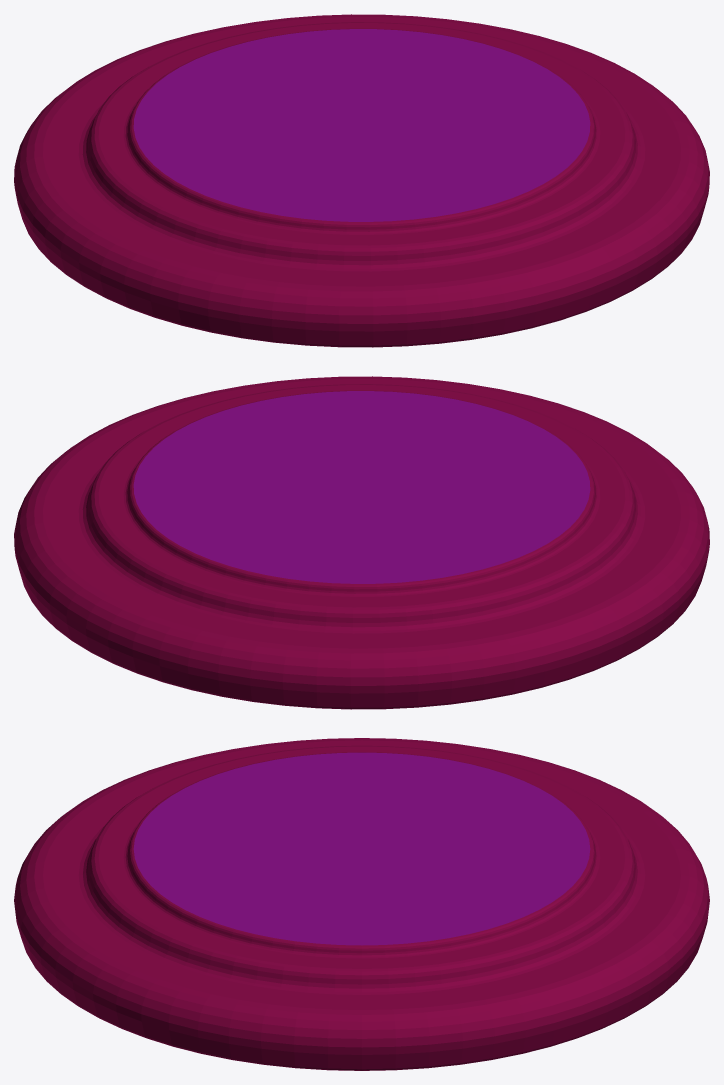
Rendered from frisbee.fbx.
3 renders of one model, top to bottom at view 1: azimuth 30°, elevation 25°; view 2: azimuth 150°, elevation 25°; view 3: azimuth 270°, elevation 25°, orthographic.
Visible parts, largest first — view 1: default; view 2: default; view 3: default.
Boxes of the visible parts, x1,y1,x2,y2 form: default: (14, 14, 709, 347); default: (14, 376, 709, 709); default: (14, 738, 709, 1070).
Size of the model in its own units: 9 by 1.13 by 9.
